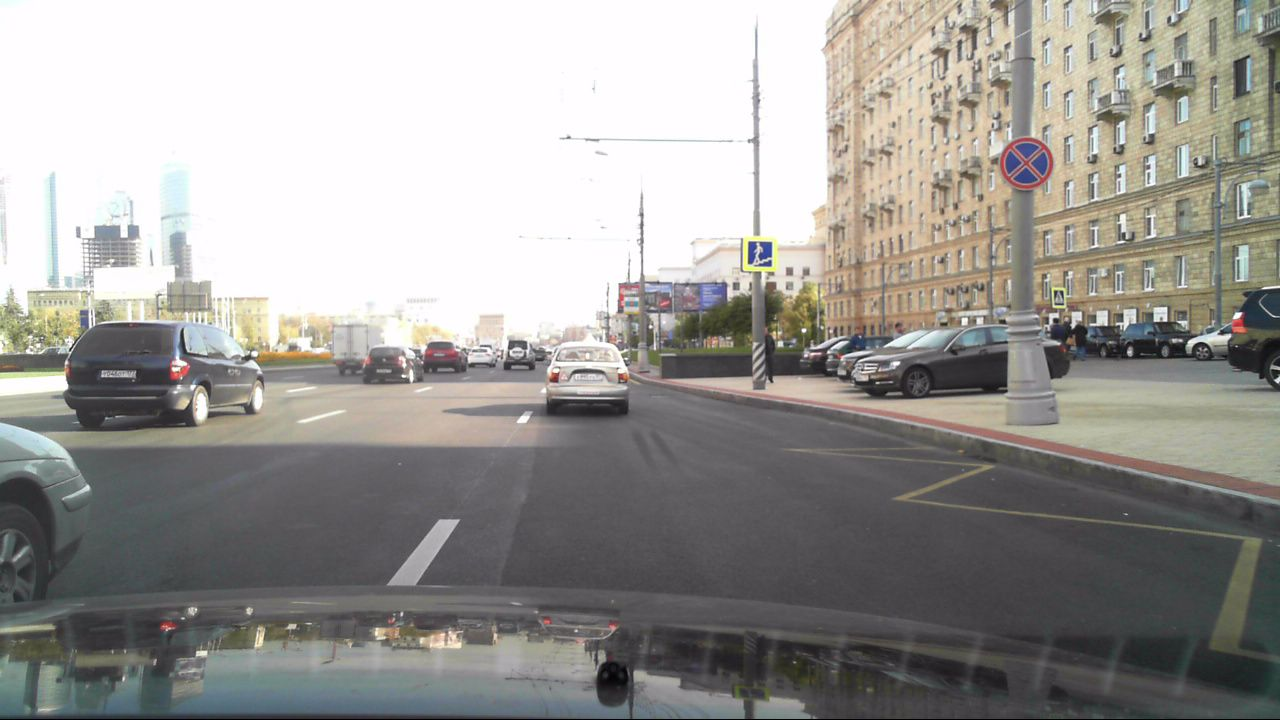No Parking: (997, 136, 1056, 191)
